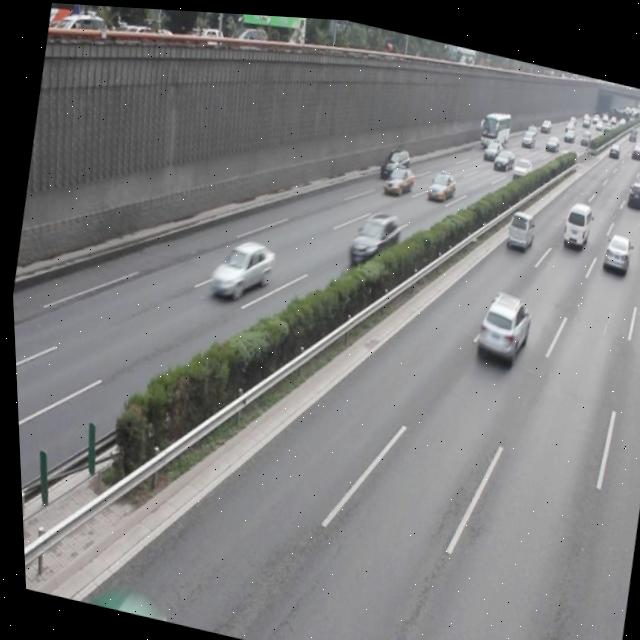car: (40, 569, 165, 620), (204, 227, 277, 302), (467, 278, 530, 364), (342, 198, 402, 270), (501, 201, 535, 245), (596, 221, 629, 266), (378, 155, 414, 196)
truck: (556, 192, 591, 242)
